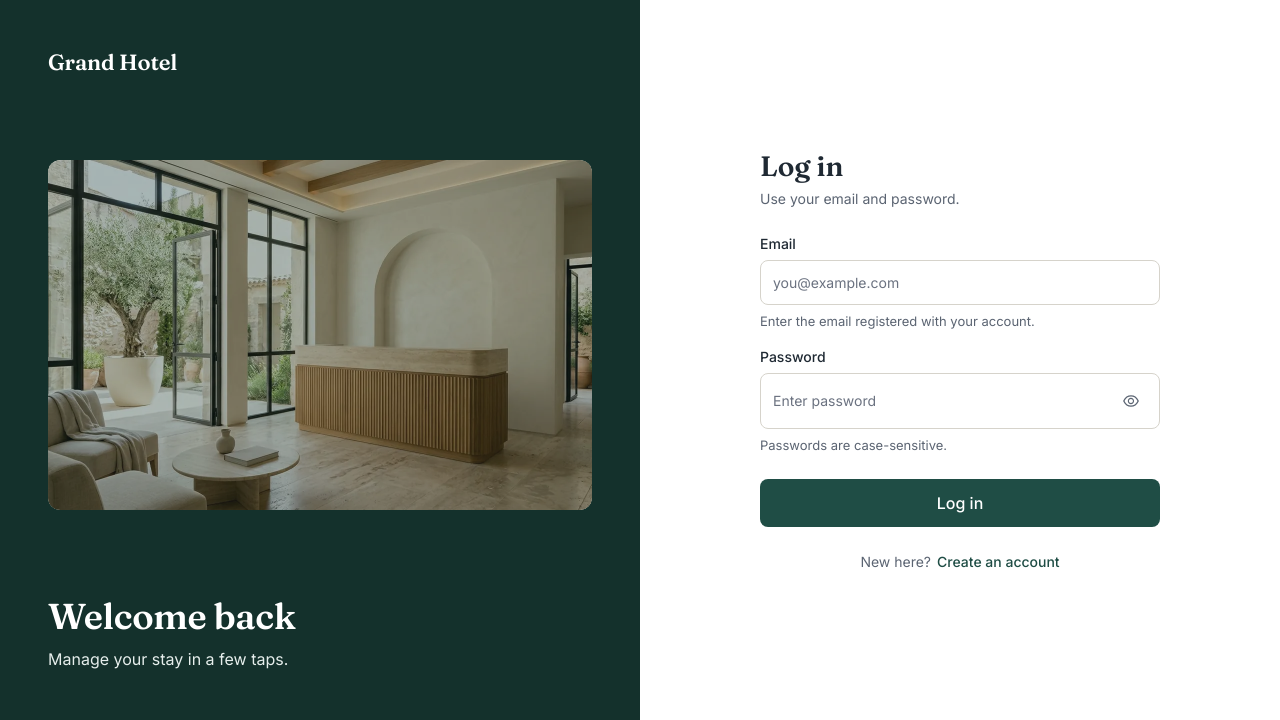
LoginForm › shows validation messages and toggles password visibility with aria-label
Click the button named "Show password". click: (1131, 400)
box: [1115, 384, 1147, 416]
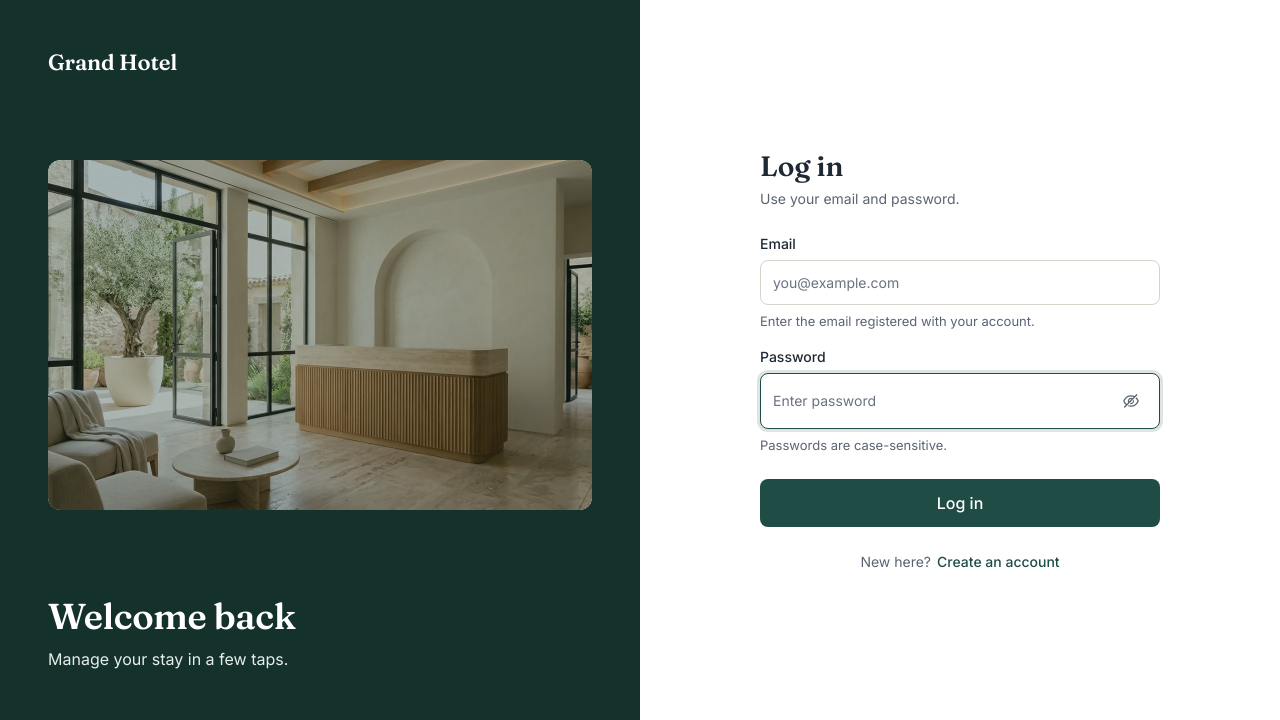
Now the button named "Hide password" is shown, box [1115, 384, 1147, 416]
Type "not-an-email" into the field labelled "Email". click: (960, 282)
box: [760, 260, 1160, 304]
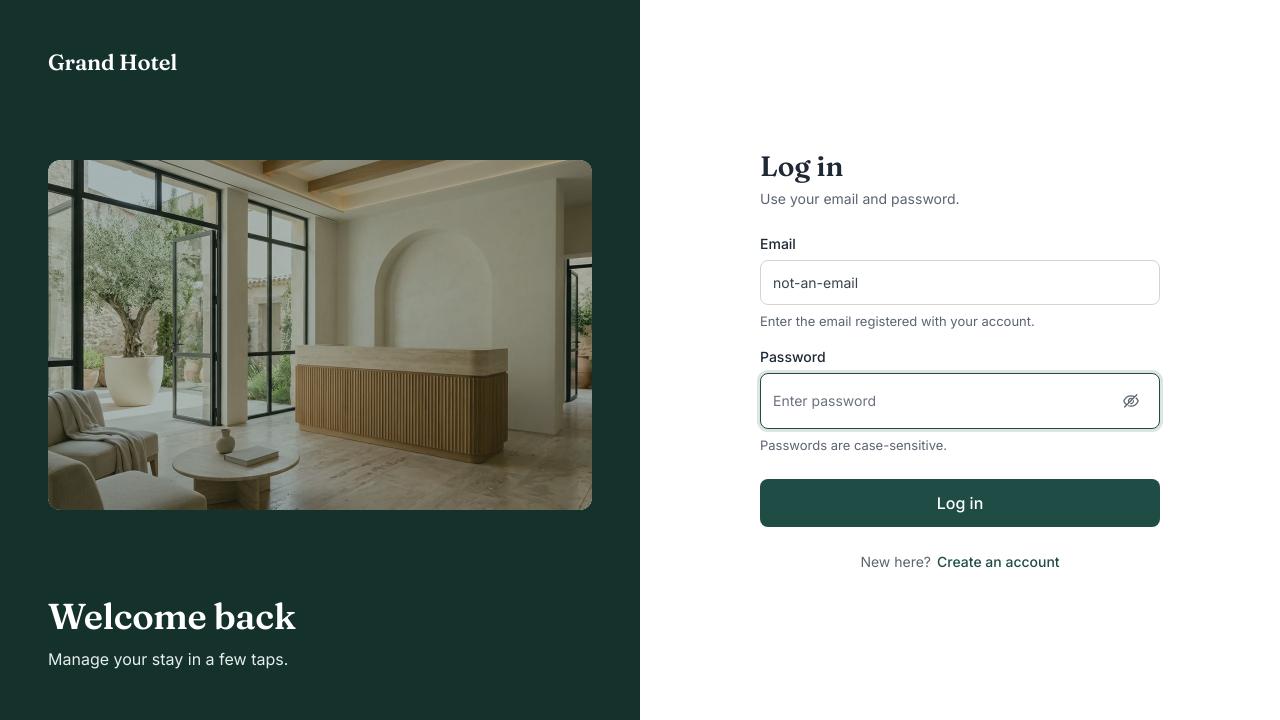
Click the button "Log in". click: (960, 502)
box: [760, 478, 1160, 526]
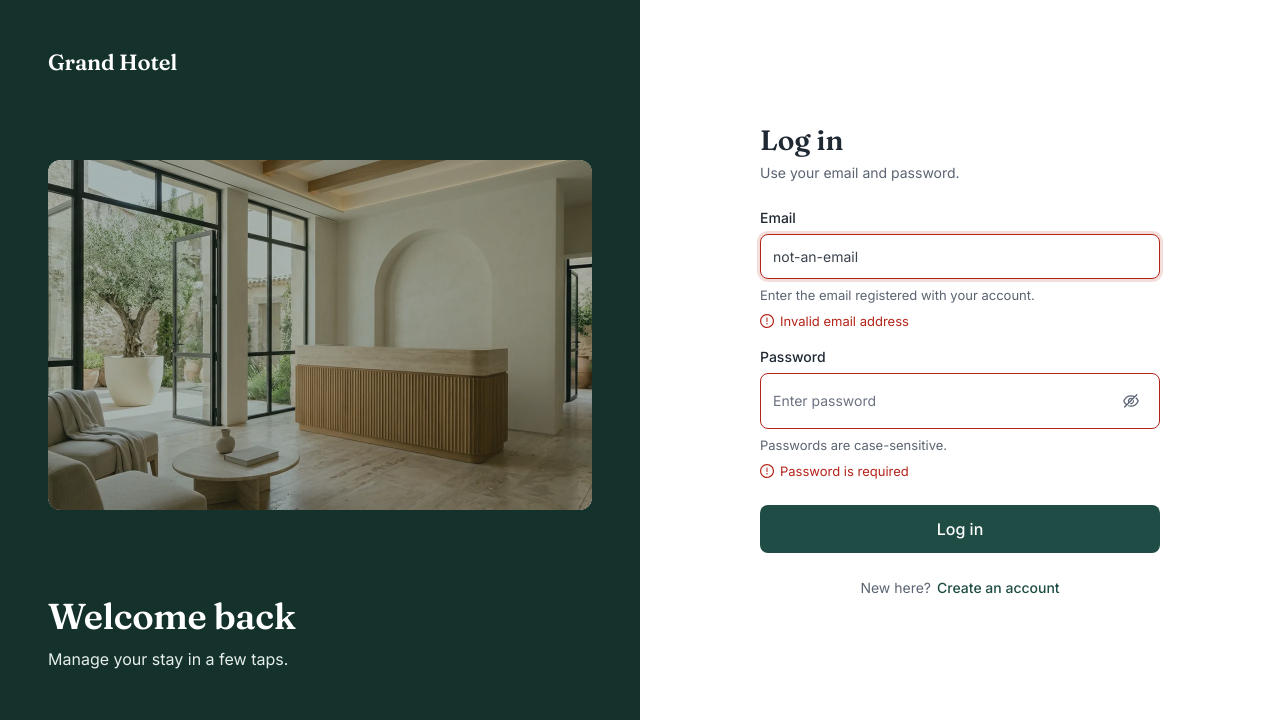
Now the text "Invalid email address" is shown, box [780, 310, 909, 330]
Now the text "Password is required" is shown, box [780, 460, 909, 480]
